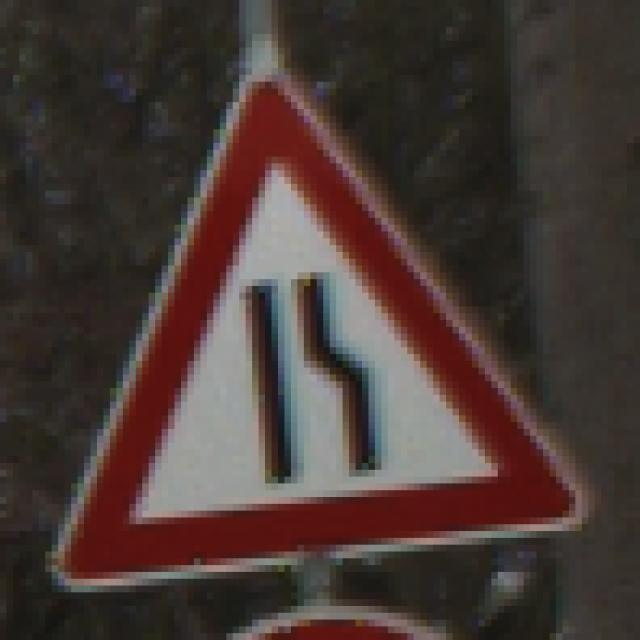narrow road ahead: (46, 62, 591, 595)
